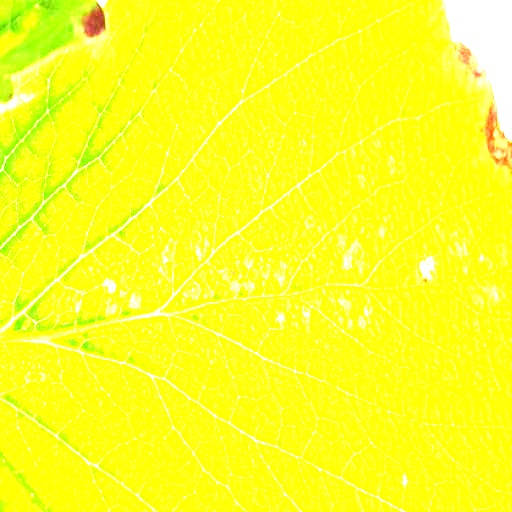Angular Leafspot: (0, 7, 511, 491)
